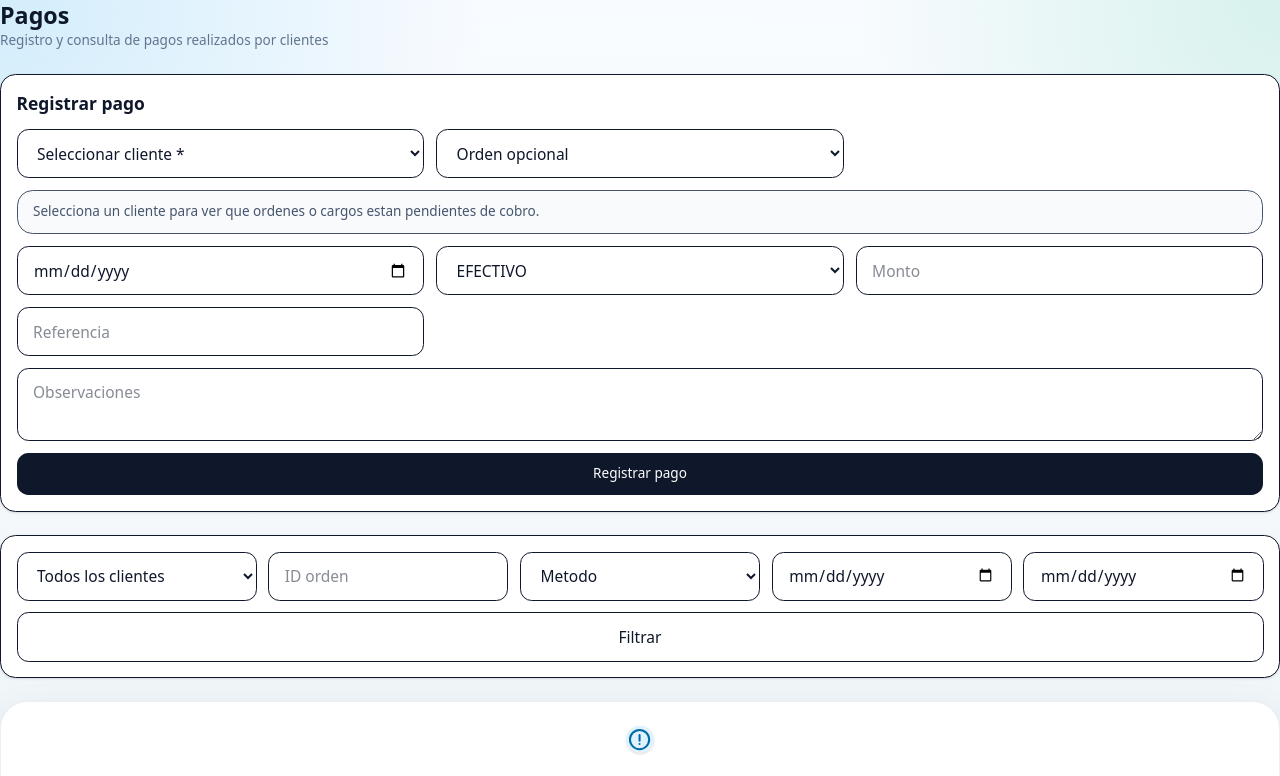
PagosPage › muestra error si no puede cargar el detalle de la orden seleccionada
Expected: the heading "Pagos" is shown, [0,0,69,31]
Select "Client One" in the 1st dropdown at (220, 154), box [16,129,424,178]
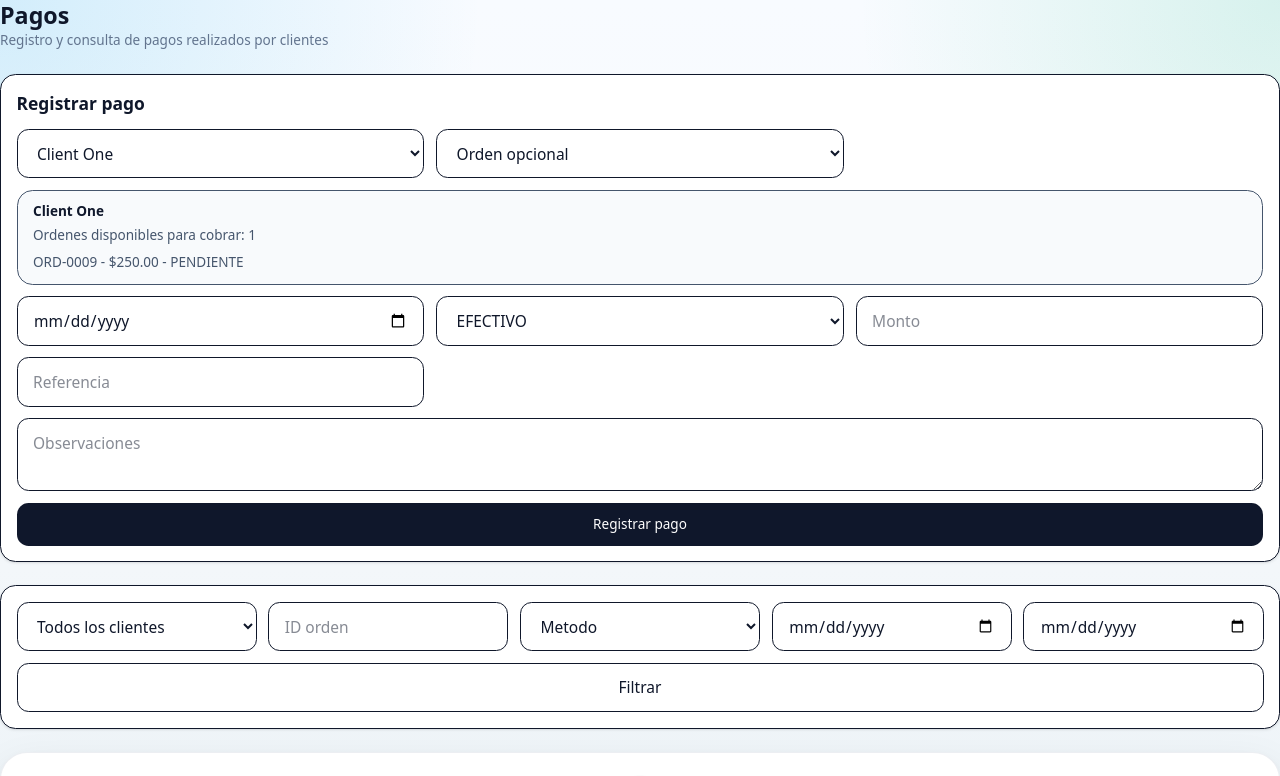
Select "ORD-0009 - Client One" in the 2nd dropdown at (640, 154), box [436,129,844,178]
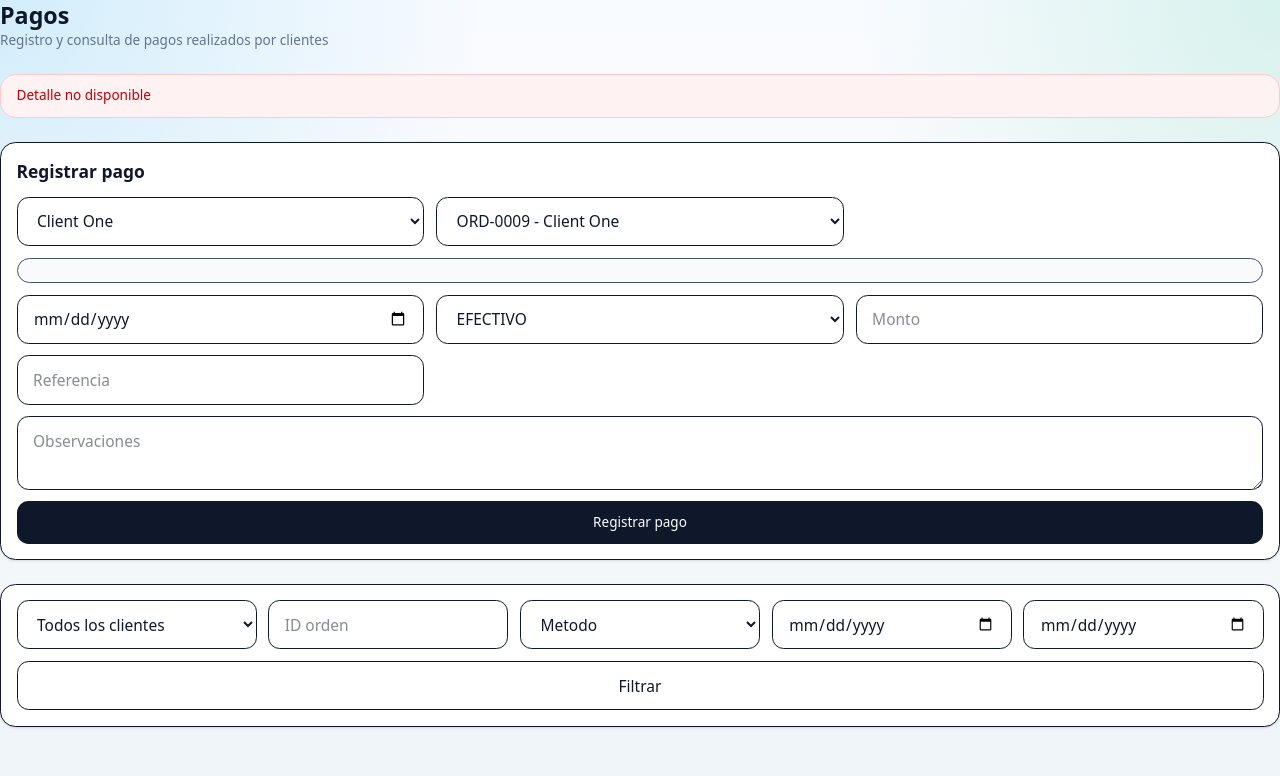
Result: the text "Detalle no disponible" is shown at [0,74,1279,118]
